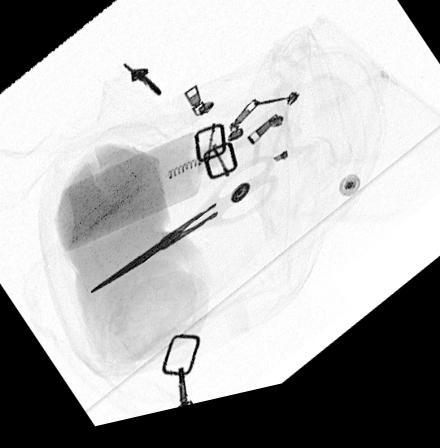Scissors: (88, 165, 279, 300)
